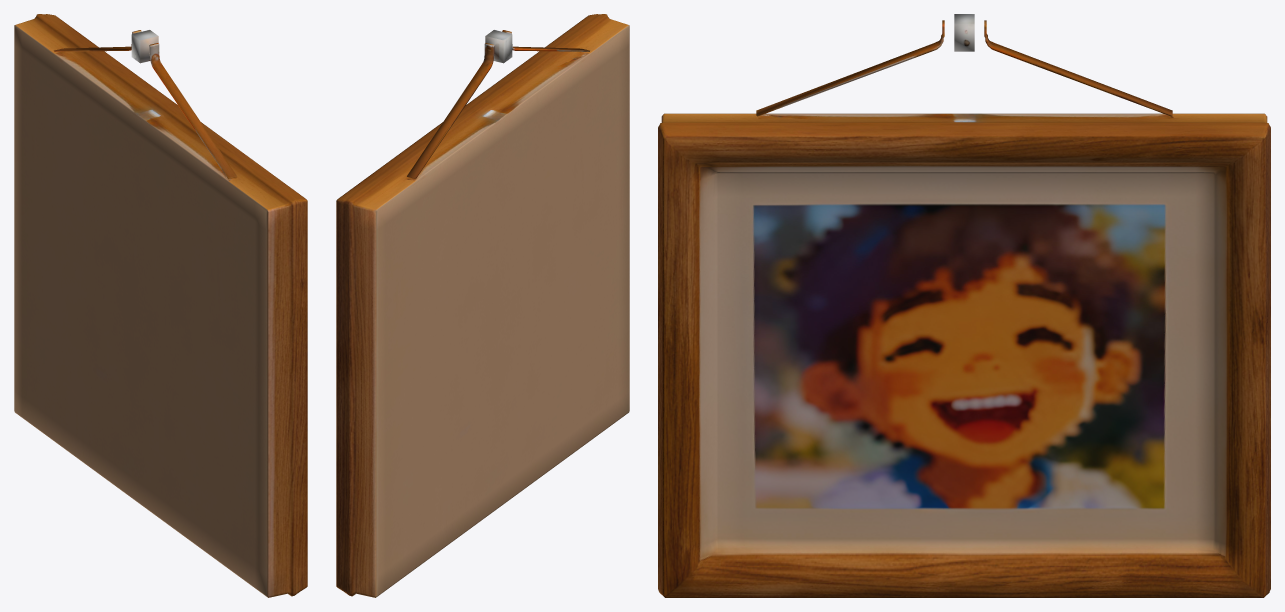
File: 童年照.fbx
3 renders of one model, left to right at view 1: azimuth 30°, elevation 25°; view 2: azimuth 150°, elevation 25°; view 3: azimuth 270°, elevation 25°, orthographic. The views are drawn at different scales.
Visible parts, largest first — view 1: tripo_node_3c0ae4cb; view 2: tripo_node_3c0ae4cb; view 3: tripo_node_3c0ae4cb.
Part boxes in pixels (bbox=[...]): tripo_node_3c0ae4cb: bbox=[14, 14, 307, 597]; tripo_node_3c0ae4cb: bbox=[336, 14, 629, 597]; tripo_node_3c0ae4cb: bbox=[658, 14, 1270, 597].
Size of the model in its own units: 0.0969 by 0.9474 by 0.9346.
1 material, 1 textured.
